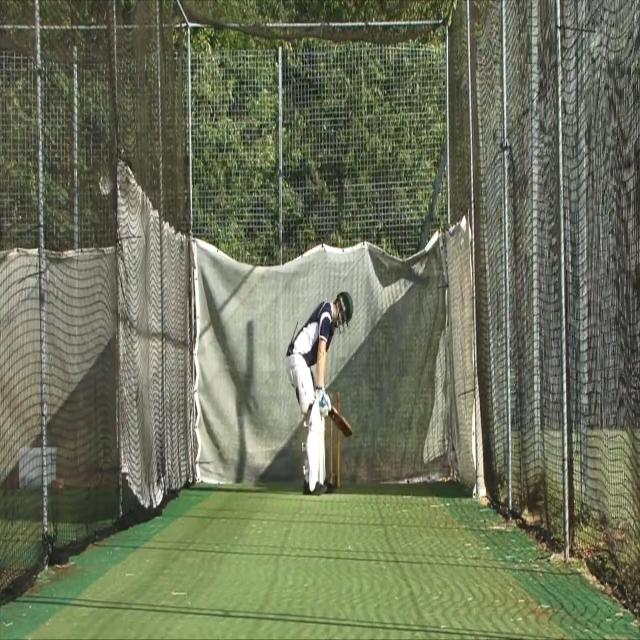batsman: (285, 288, 355, 498)
